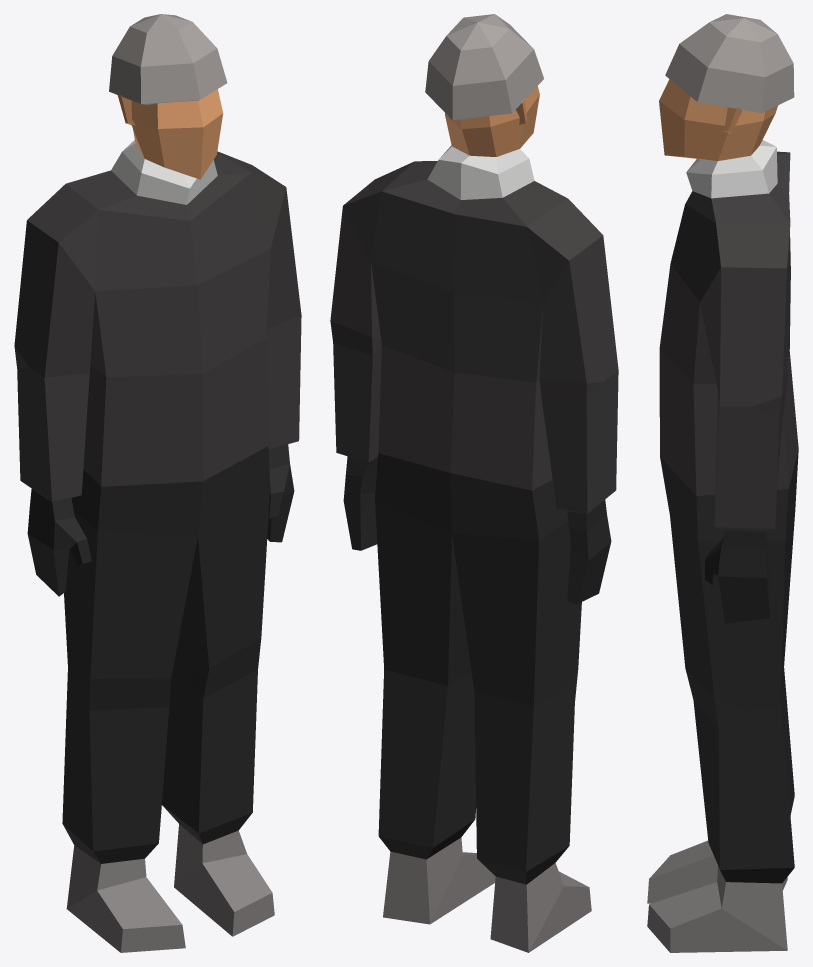
Rendered from man-winter.glb.
3 views of the same model, side by side, from view 1: azimuth 30°, elevation 25°; view 2: azimuth 150°, elevation 25°; view 3: azimuth 270°, elevation 25° (orthographic).
Visible parts, largest first — view 1: man-winter; view 2: man-winter; view 3: man-winter.
Part boxes in pixels (x1,y1,x2,y2): man-winter: (14,14,301,952); man-winter: (330,14,618,952); man-winter: (647,14,798,952).
Bounding box in the file's own units: 0.5518 × 1.83 × 0.2804.
Materials: 1 (1 with a texture image).
